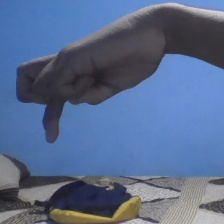P: (12, 3, 169, 145)
